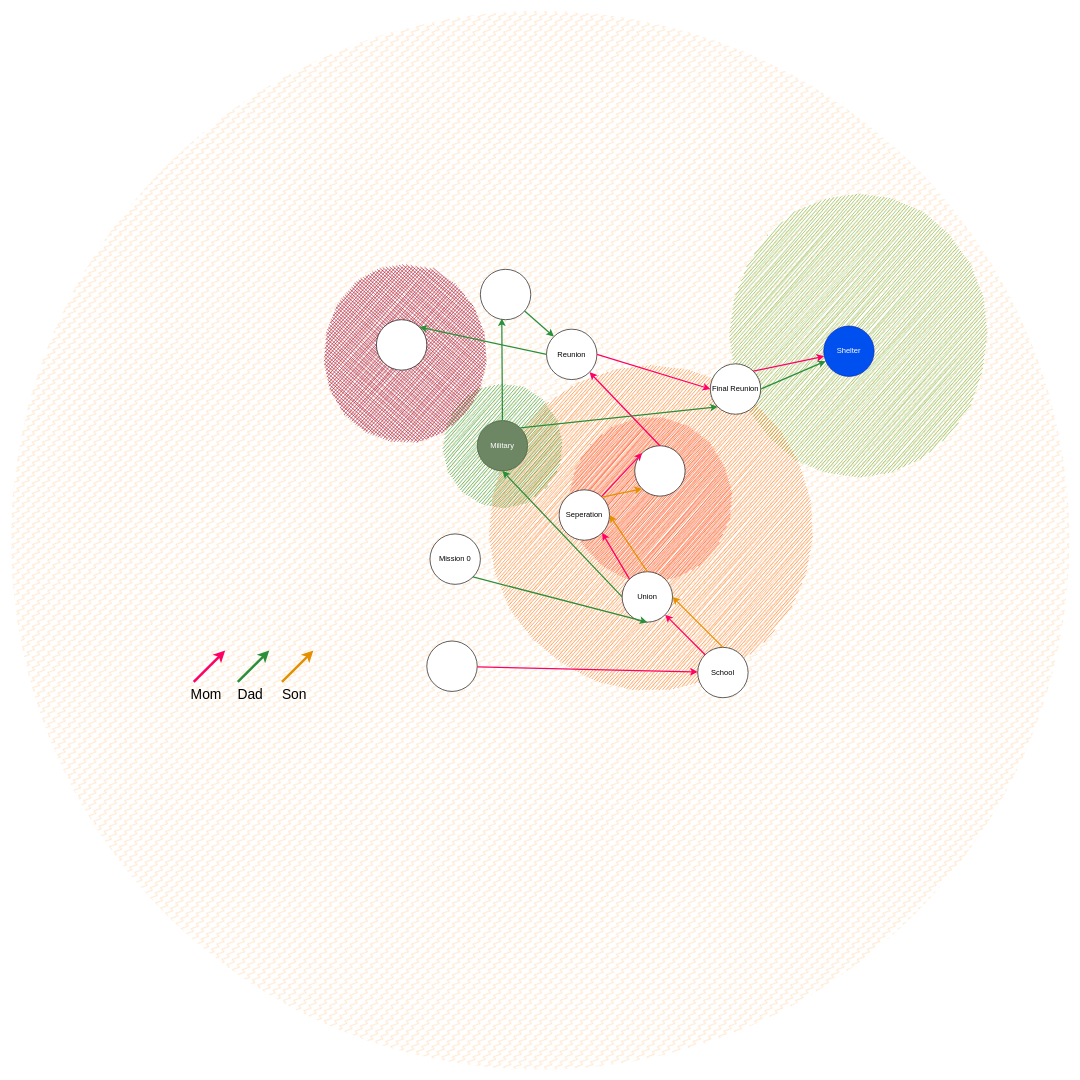
Some shapes in this 1080 by 1080 pixel diagram are drawn without their labels. Each missing label, with the centre of its shape:
Dangerous Mission: point 401,344
Mission 1: point 505,294
Son Died: point 659,470
Start: point 451,665
